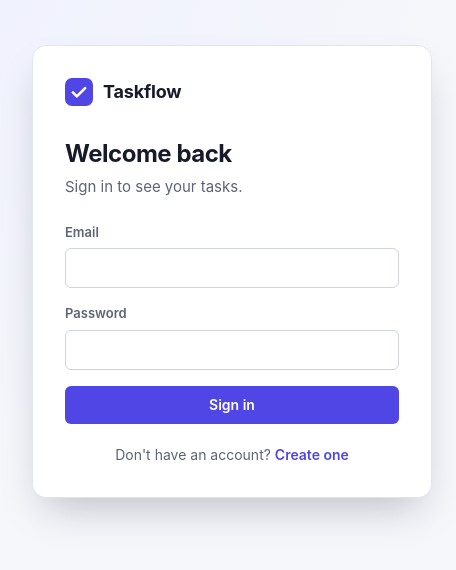
Test: sign in › shows the server error for bad credentials
The width and height of the screenshot is (456, 570).
Step 1. Type "ada@example.com" into the field labelled "Email" → (232, 268), box [65,248,399,288]
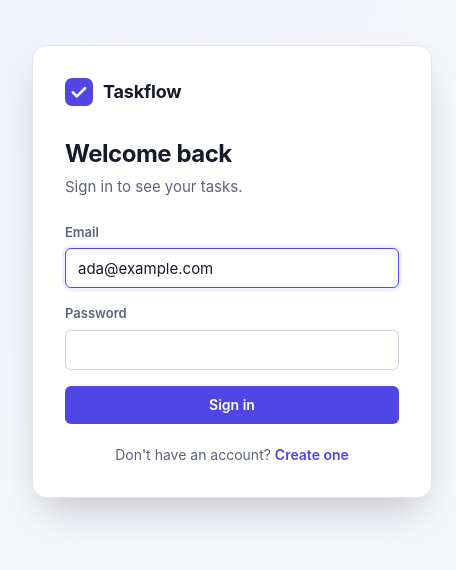
Step 2. Type "wrong" into the password field labelled "Password" → (232, 350), box [65,330,399,370]
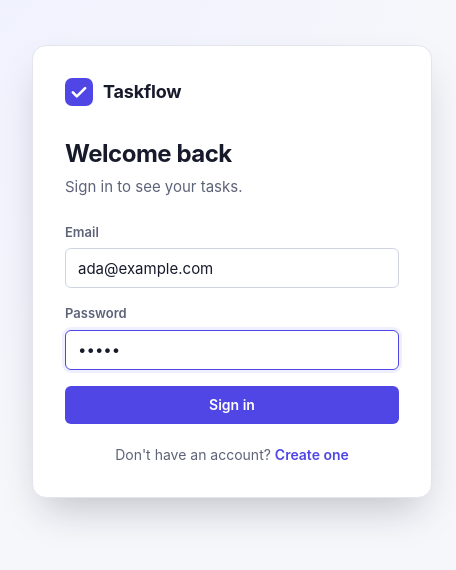
Step 3. Click the button "Sign in" → (232, 404), box [65,386,399,424]
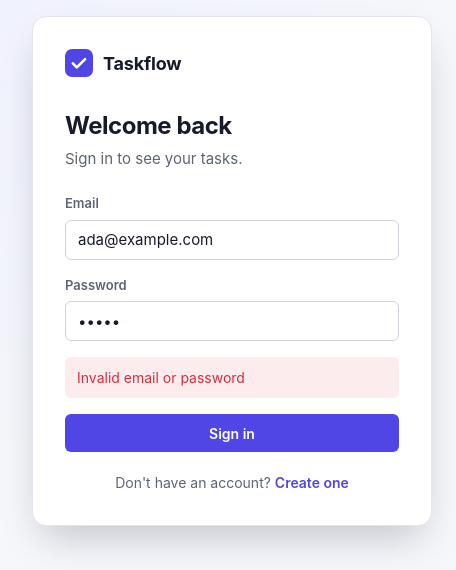
Expected: the message reads "Invalid email or password", [77,369,245,386]
